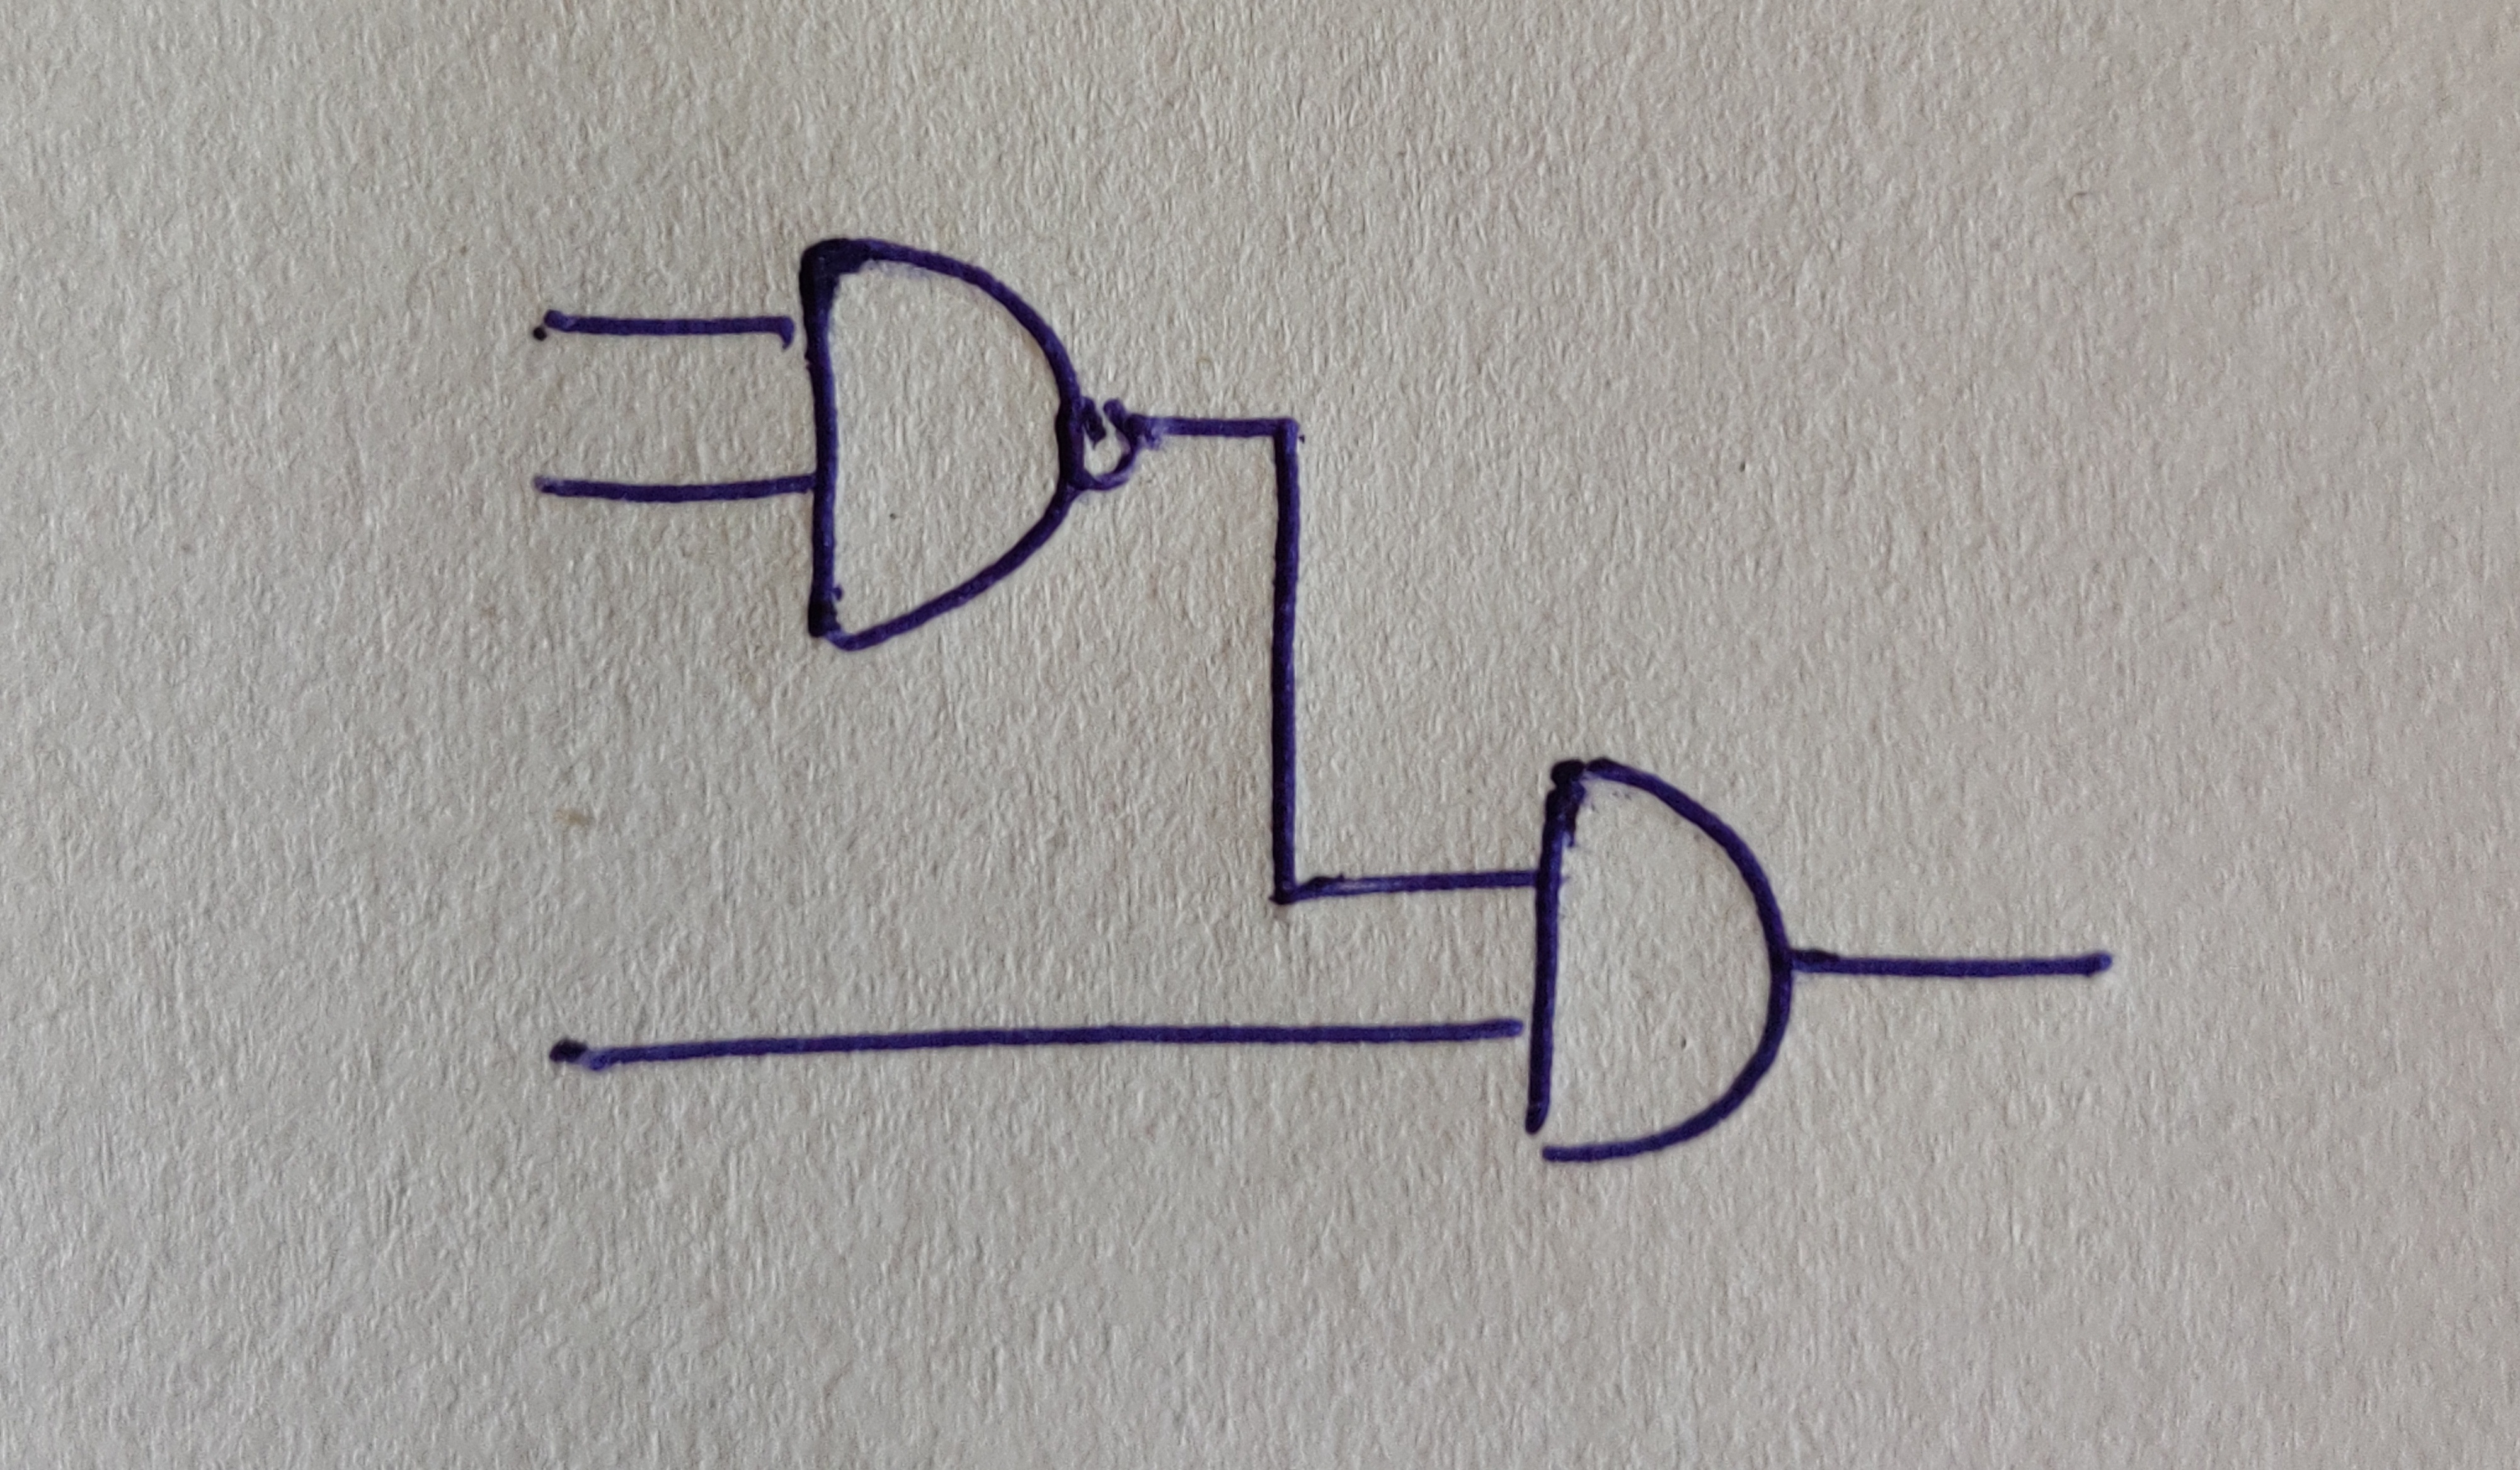and: (801, 234, 1081, 651), (1528, 756, 1791, 1164)
not: (1062, 394, 1142, 492)
